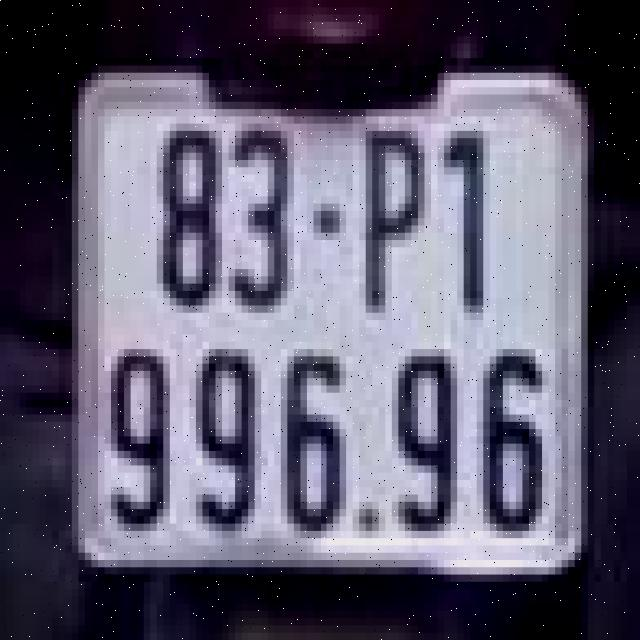1: (431, 112, 509, 324)
3: (222, 112, 294, 324)
6: (473, 342, 552, 545), (277, 345, 356, 542)
8: (156, 124, 228, 320)
9: (98, 342, 183, 538), (186, 338, 265, 542), (385, 338, 464, 542)
P: (356, 124, 428, 320)
